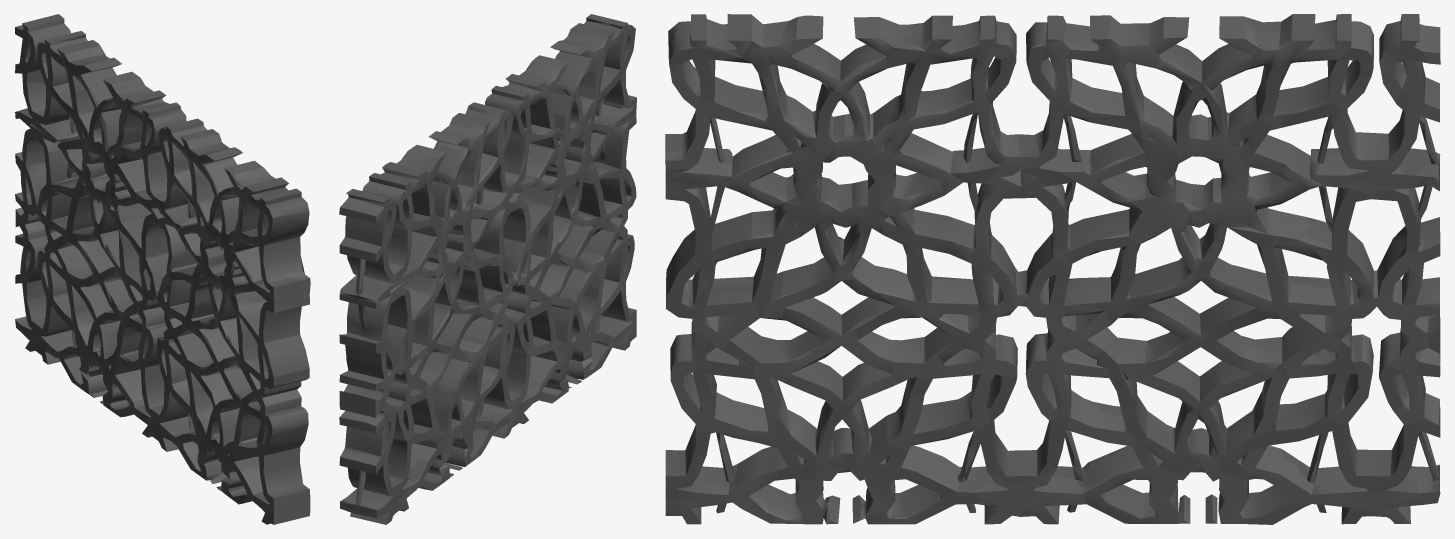
File: SM_TianChuang04_03d4e0.glb
The picture shows the model from 3 angles, left to right: view 1: azimuth 30°, elevation 25°; view 2: azimuth 150°, elevation 25°; view 3: azimuth 270°, elevation 25°; orthographic projection. The views are drawn at different scales.
Visible parts, largest first — view 1: SM_TianChuang04; view 2: SM_TianChuang04; view 3: SM_TianChuang04.
Part boxes in pixels (bbox=[...]): SM_TianChuang04: bbox=[14, 14, 310, 524]; SM_TianChuang04: bbox=[339, 14, 636, 524]; SM_TianChuang04: bbox=[665, 14, 1440, 524].
Size of the model in its own units: 0.0362 by 0.297 by 0.4292.
Materials: 1 (1 with a texture image).
